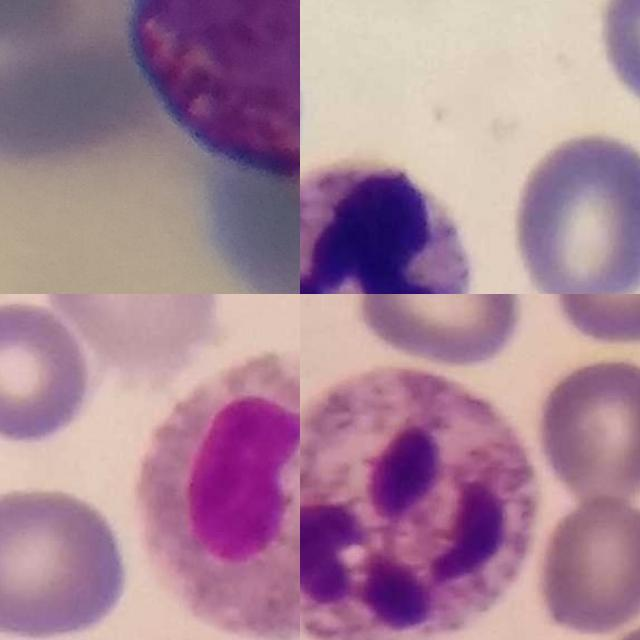Basophil: (129, 0, 300, 181)
Eosinophil: (141, 352, 300, 640)
Neutrophil: (300, 365, 538, 640), (300, 159, 475, 294)
